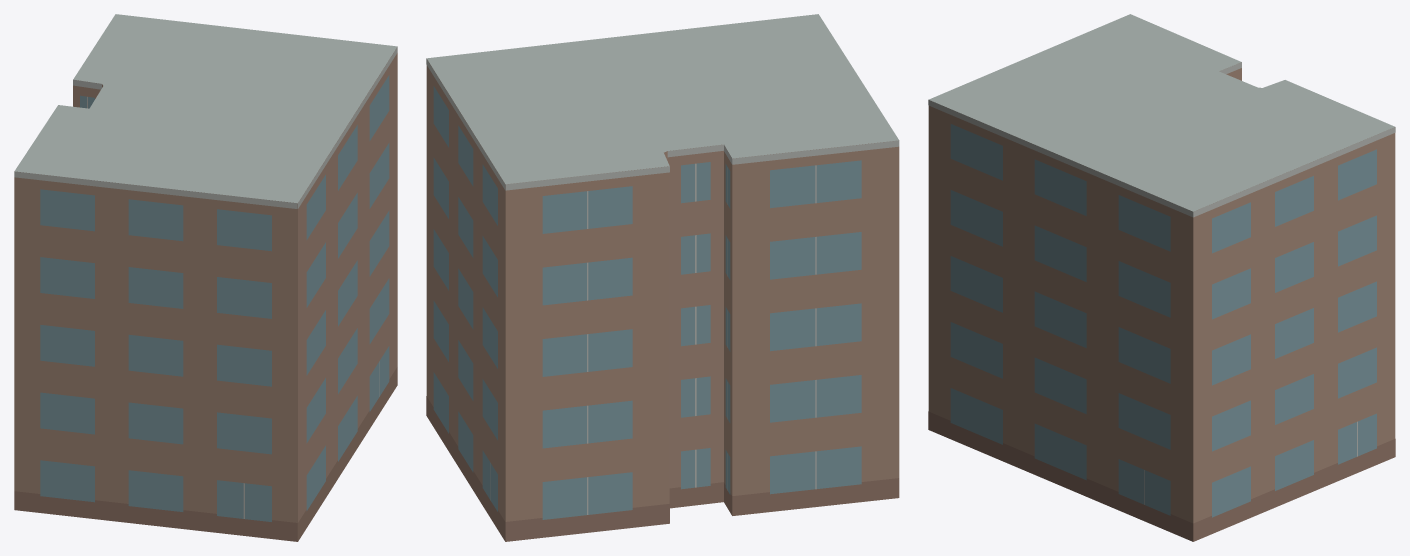
Rendered from survey-upis-32625772.glb.
The picture shows the model from 3 angles, left to right: view 1: azimuth 30°, elevation 25°; view 2: azimuth 150°, elevation 25°; view 3: azimuth 270°, elevation 25°; orthographic projection. The views are drawn at different scales.
Visible parts, largest first — view 1: survey-upis-32625772.tmp; view 2: survey-upis-32625772.tmp; view 3: survey-upis-32625772.tmp.
Boxes of the visible parts, left/top/right/bottom form: survey-upis-32625772.tmp: left=14, top=14, right=397, bottom=541; survey-upis-32625772.tmp: left=426, top=14, right=899, bottom=541; survey-upis-32625772.tmp: left=928, top=14, right=1395, bottom=541.
Bounding box in the file's own units: 17.86 × 13.9 × 17.82.
